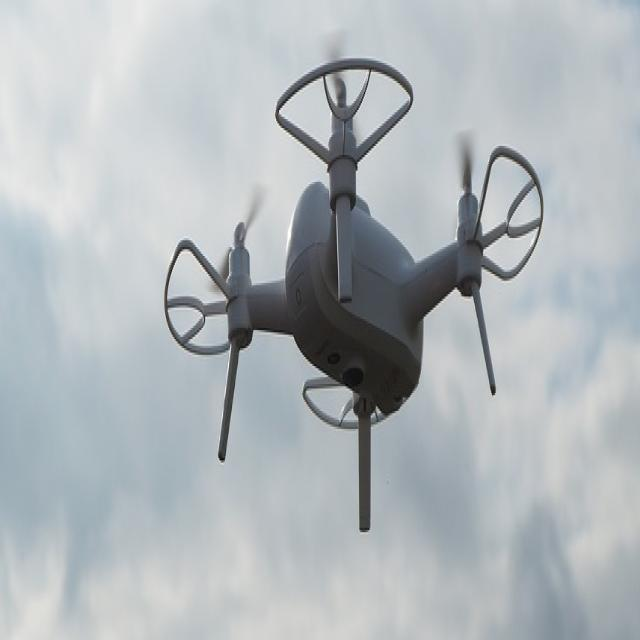drone: (160, 38, 542, 494)
